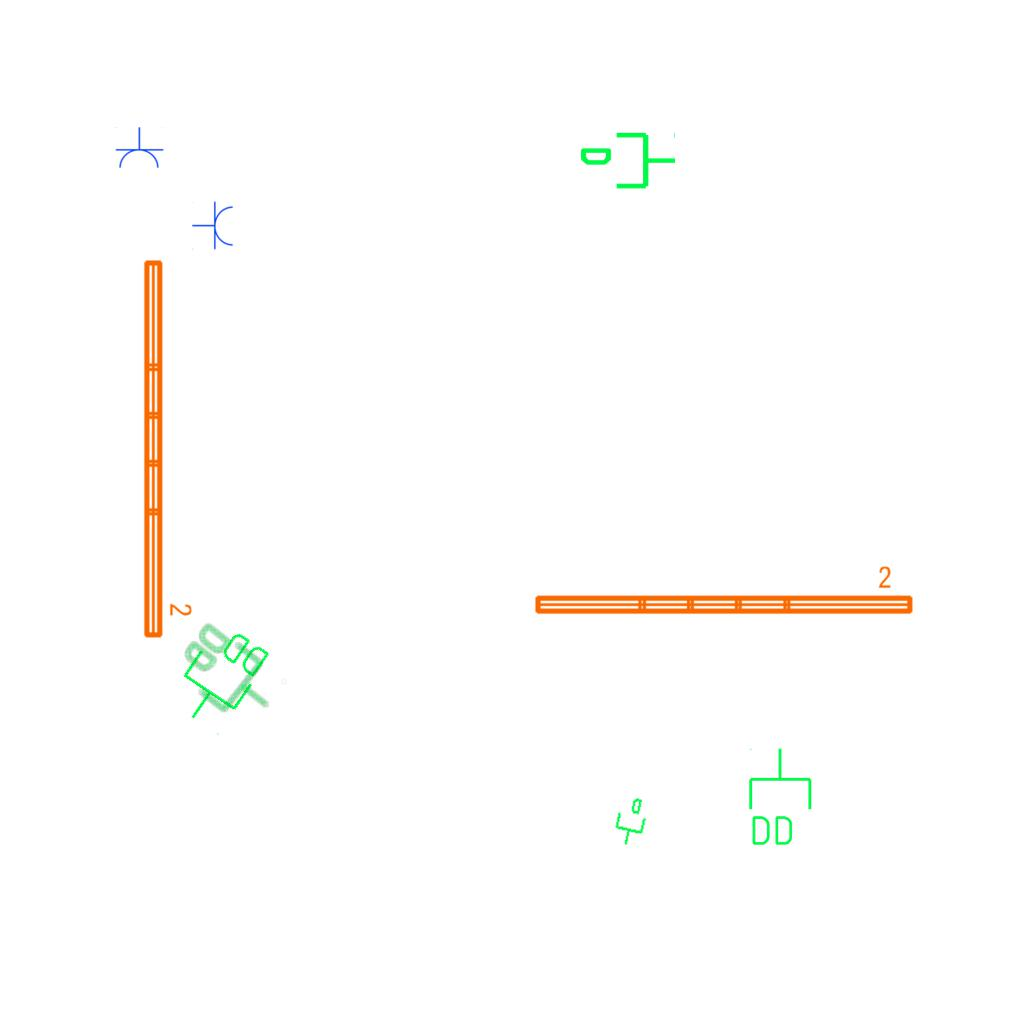Ambulanz_Pendelleuchte_LED: (530, 564, 917, 620), (138, 255, 194, 642)
Datenanschluss_einfach: (578, 128, 678, 197), (607, 792, 653, 850)
Datenanschluss_zweifach: (166, 615, 291, 734), (163, 615, 278, 740), (745, 746, 814, 849)
Schukosteckdose_einfach: (114, 127, 164, 170), (192, 201, 235, 251)
